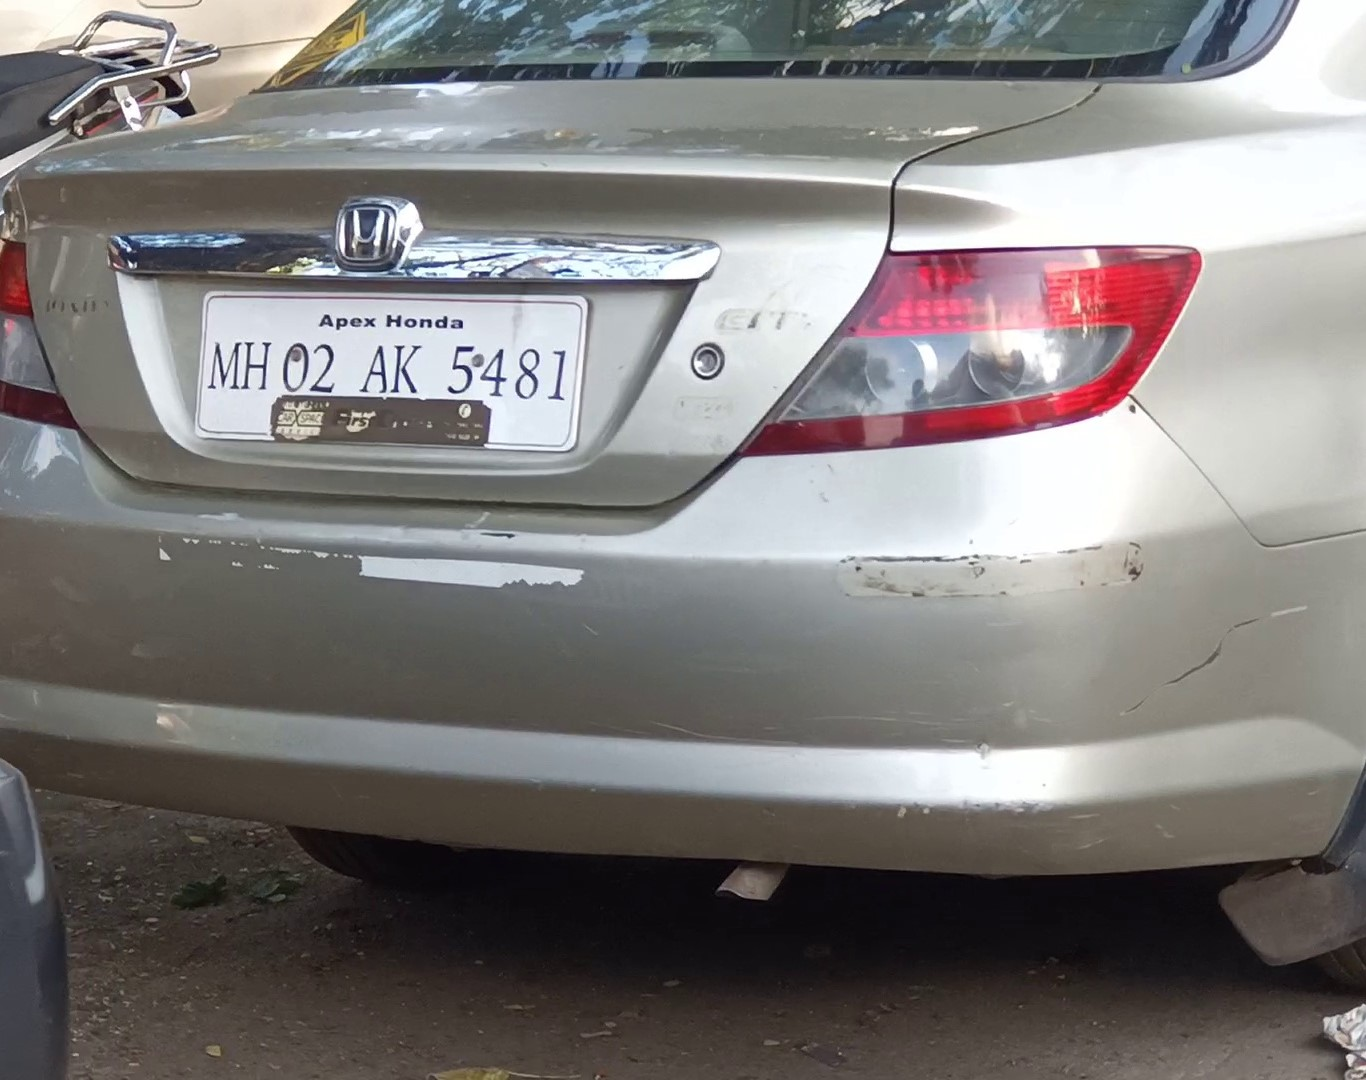MH02AK5481: (195, 287, 589, 455)
